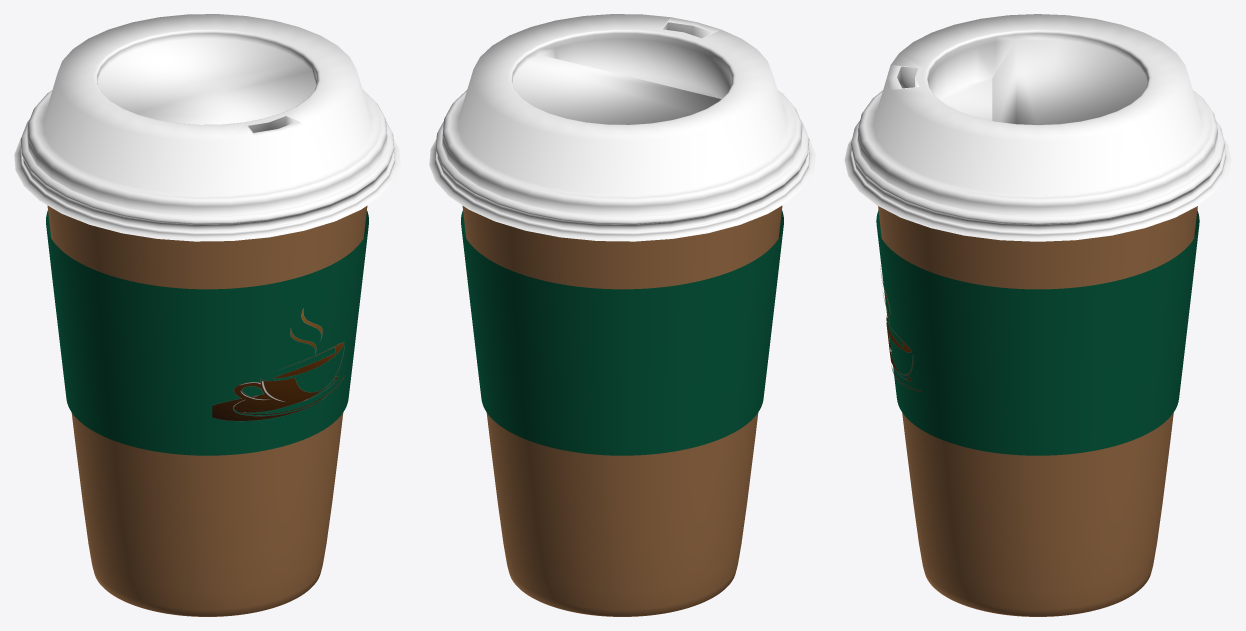
The model's file is coffeeCup.glb.
The picture shows the model from 3 angles, left to right: view 1: azimuth 30°, elevation 25°; view 2: azimuth 150°, elevation 25°; view 3: azimuth 270°, elevation 25°; orthographic projection.
Visible parts, largest first — view 1: Lid, Cup, Label, pngwing.com; view 2: Lid, Cup, Label; view 3: Lid, Cup, Label, pngwing.com.
Boxes of the visible parts, <box> form: Lid: <box>14,14,400,241</box>; Cup: <box>47,205,367,616</box>; Label: <box>46,210,368,455</box>; pngwing.com: <box>212,308,344,421</box>; Lid: <box>429,14,815,241</box>; Cup: <box>462,205,782,616</box>; Label: <box>461,210,783,455</box>; Lid: <box>844,14,1231,241</box>; Cup: <box>878,206,1197,616</box>; Label: <box>876,210,1199,455</box>; pngwing.com: <box>880,265,921,391</box>.
Size of the model in its own units: 2.39 by 3.35 by 2.39.
4 materials, 1 textured.
